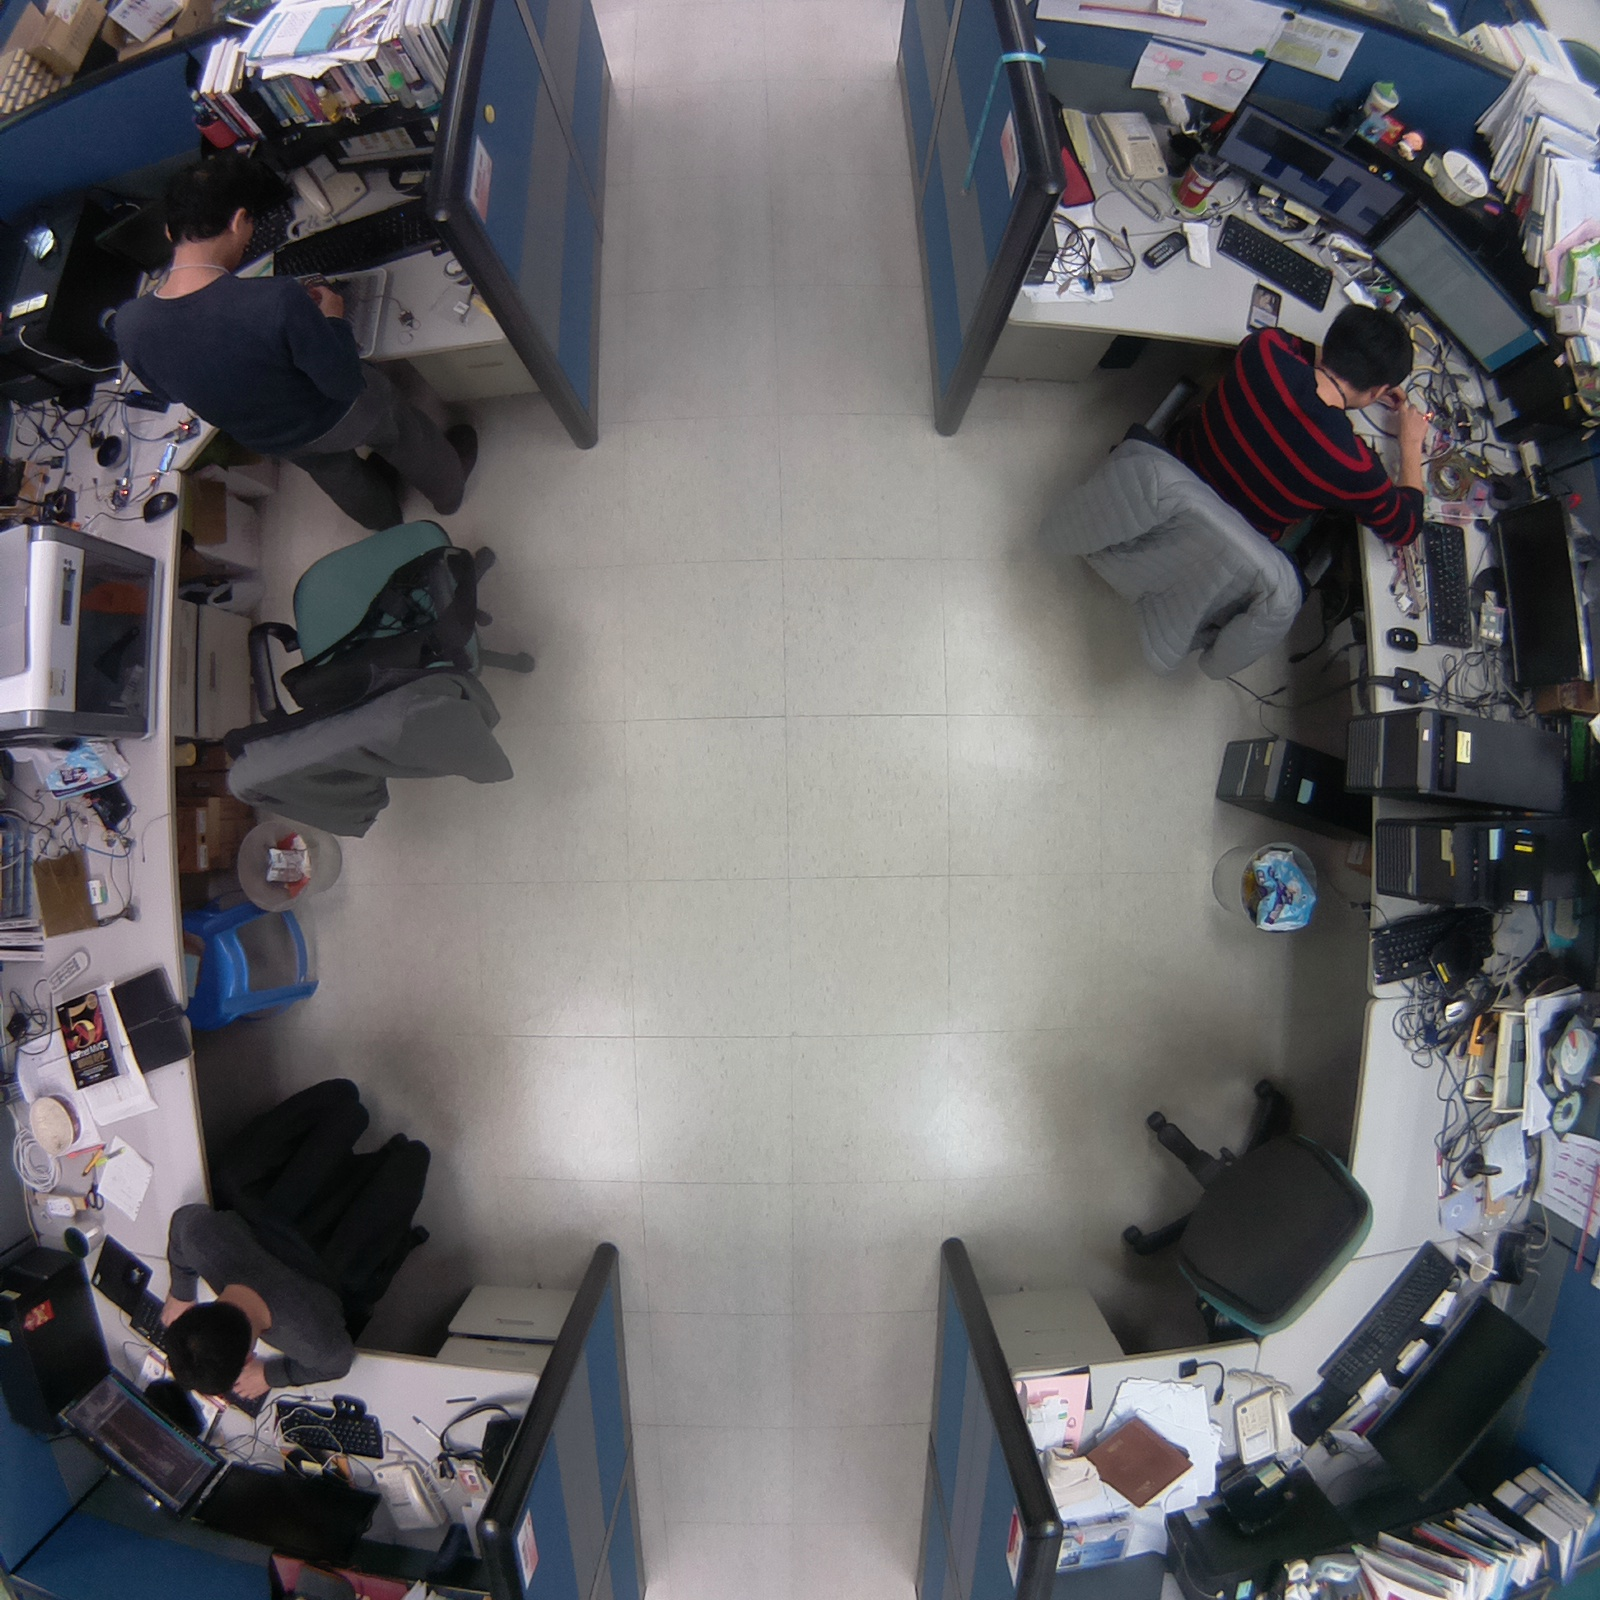chair: (209, 504, 547, 860), (1106, 1058, 1388, 1358)
head: (1310, 297, 1421, 414), (157, 153, 268, 261), (153, 1297, 257, 1408)
sitting: (1032, 294, 1424, 696), (131, 1060, 453, 1420)
standing: (84, 141, 493, 538)
